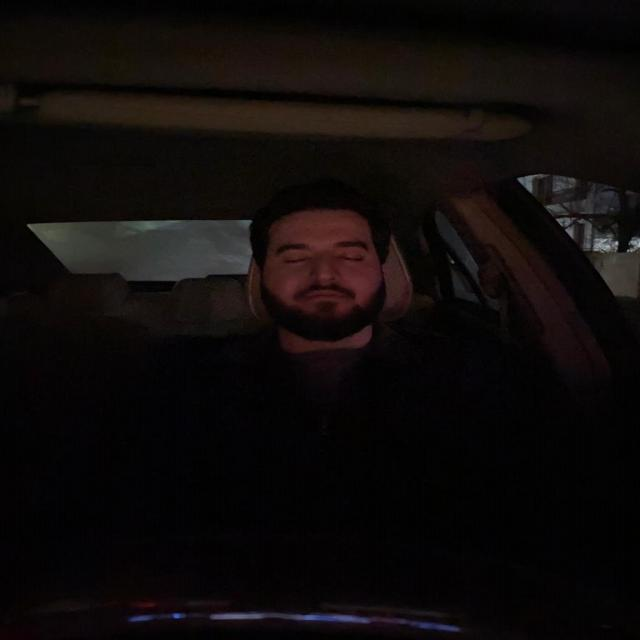drowsy: (250, 219, 397, 337)
